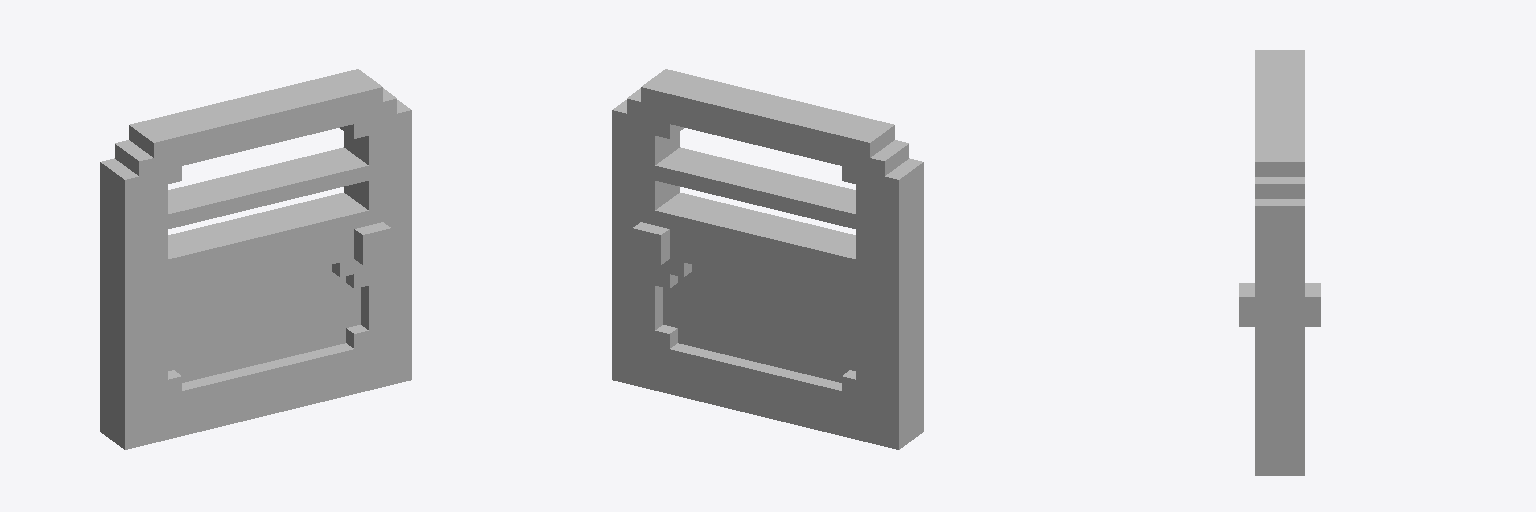
File: door.obj
The picture shows the model from 3 angles: view 1: azimuth 30°, elevation 25°; view 2: azimuth 150°, elevation 25°; view 3: azimuth 270°, elevation 25°; orthographic projection.
Visible parts, largest first — view 1: object 1; view 2: object 1; view 3: object 1.
Boxes of the visible parts, x1,y1,x2,y2 form: object 1: [100, 69, 411, 449]; object 1: [612, 69, 923, 449]; object 1: [1239, 50, 1320, 475].
Size of the model in its own units: 2 by 2 by 0.5.